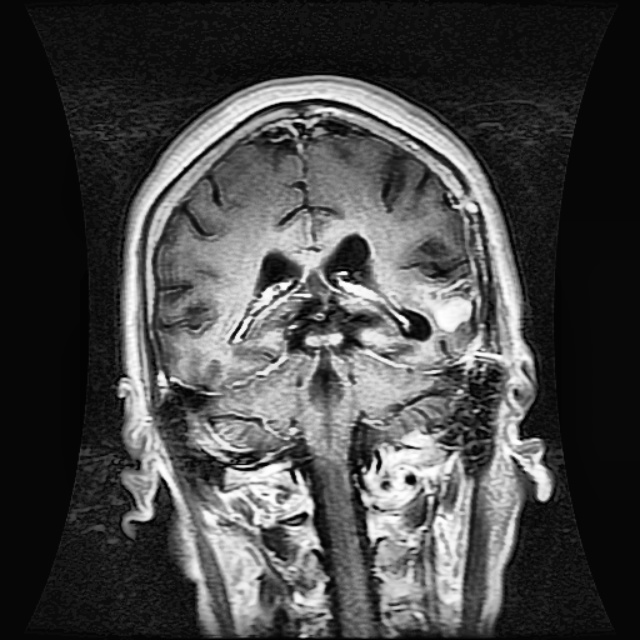Meningioma: (410, 278, 478, 333)
